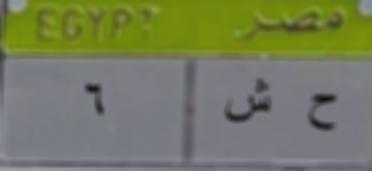6: (78, 76, 110, 124)
7aa: (304, 87, 344, 142)
sheen: (219, 71, 276, 131)
